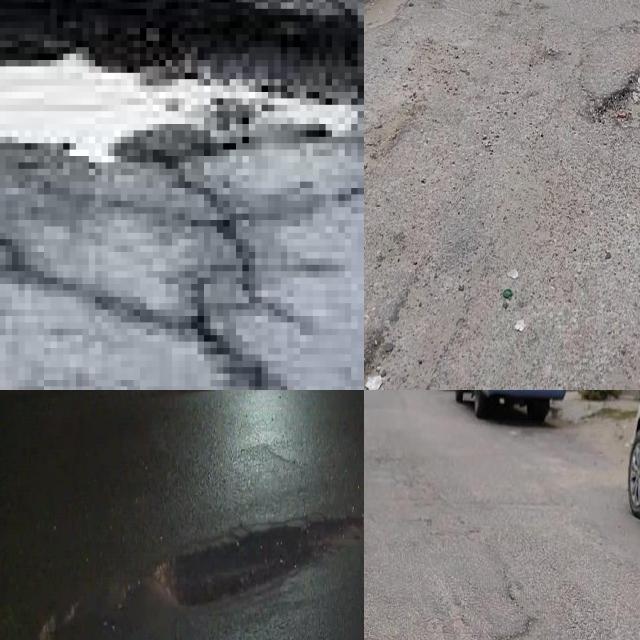Pothole: (154, 515, 364, 606), (38, 599, 119, 640), (601, 71, 640, 131)
